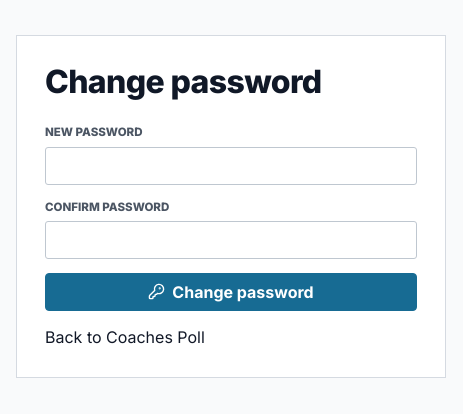
Scenario: ChangePasswordPage › rejects mismatched passwords without updating the account
Step 1. Type "new-password" into the password field labelled "New password" → (231, 166), box [45,147,417,185]
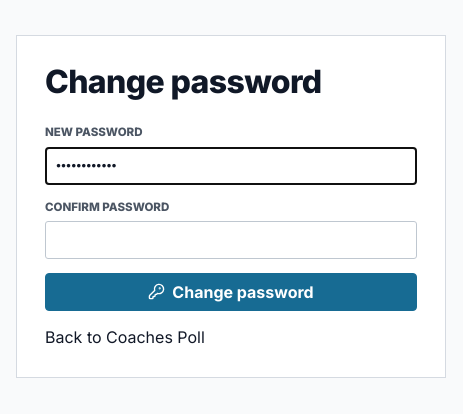
Step 2. Type "different-password" into the password field labelled "Confirm password" → (231, 240), box [45,221,417,259]
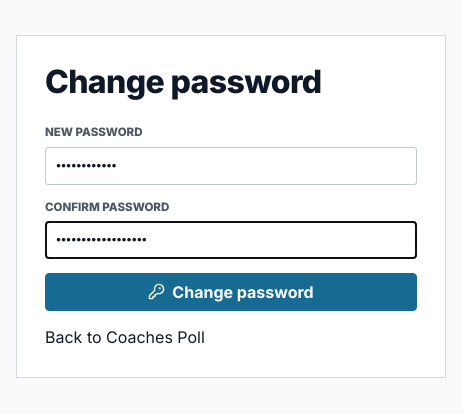
Step 3. Click the button "Change password" → (231, 292), box [45,273,417,311]
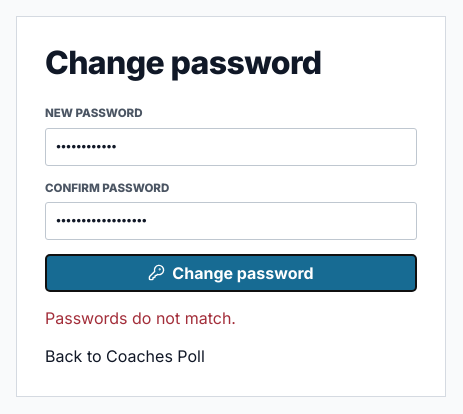
Expected: the message shows "Passwords do not match", [45,308,236,328]
